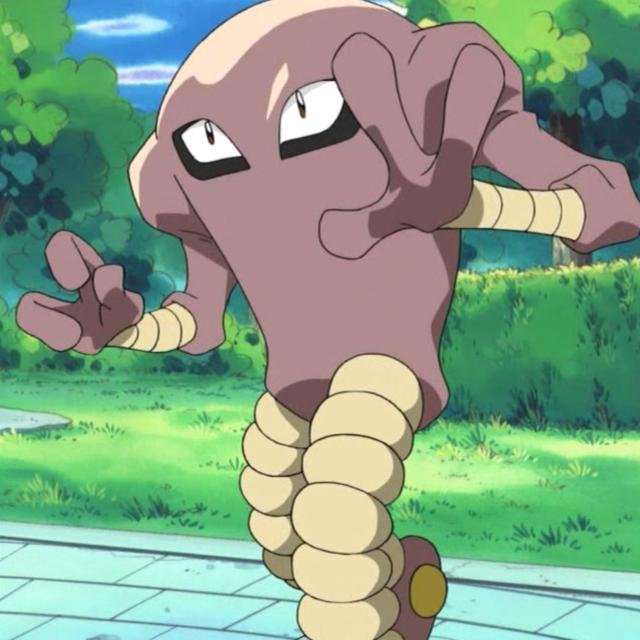Hitmonlee: (10, 0, 629, 619)
